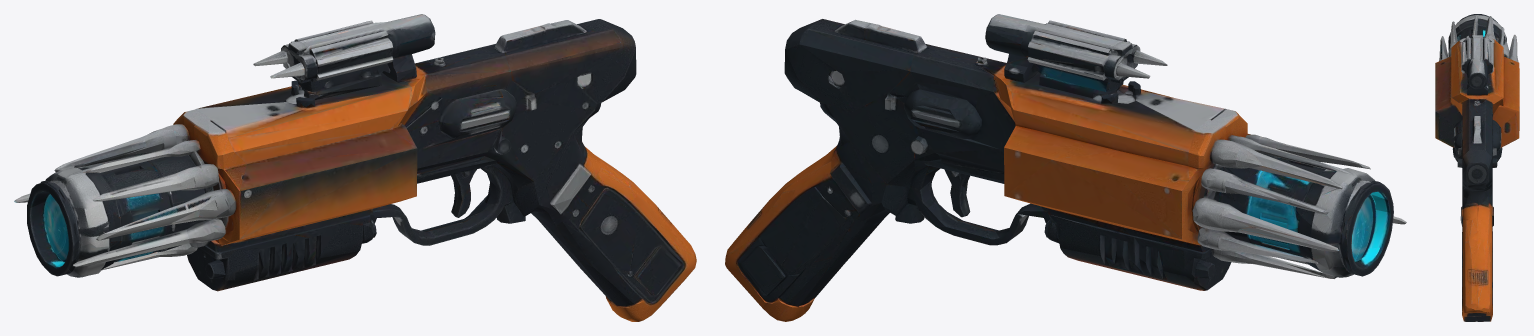
The model's file is grav_gun.glb.
3 views of the same model, side by side, from view 1: azimuth 30°, elevation 25°; view 2: azimuth 150°, elevation 25°; view 3: azimuth 270°, elevation 25° (orthographic). The views are drawn at different scales.
Bounding box in the file's own units: 1.9 × 0.9862 × 0.3851.
Materials: 1 (1 with a texture image).
